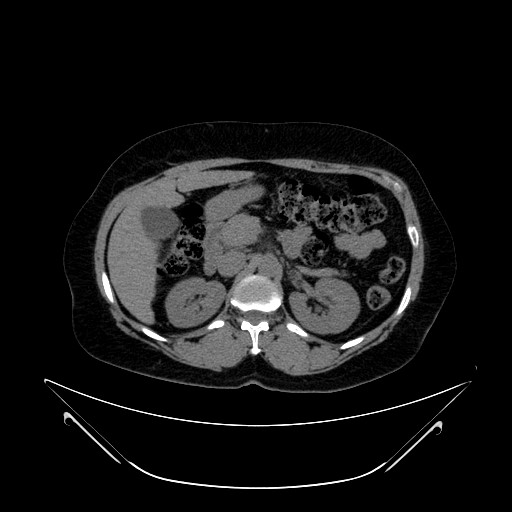vesicula: (139, 203, 183, 243)
